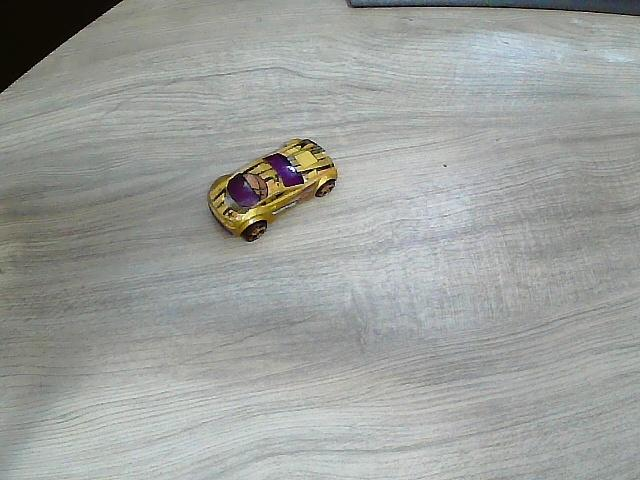Carro: (208, 140, 337, 243)
